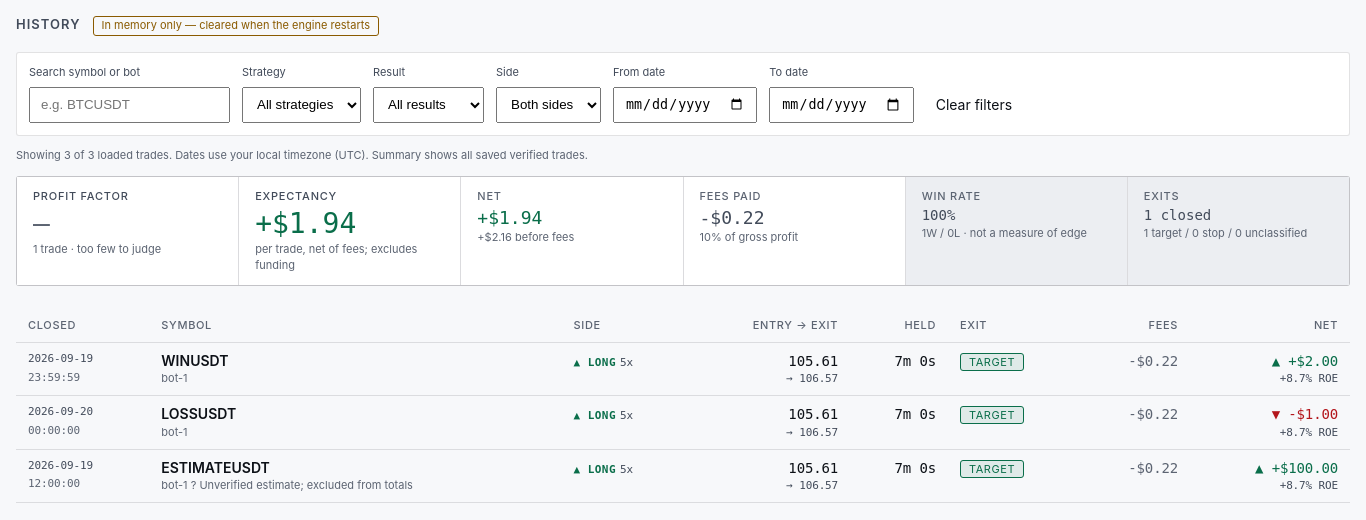
Test: combines local date and outcome filters, recalculates totals, and resets
Type "2026-09-19" into the date field labelled "From date" at (685, 105), box top-left (613, 87), bottom-right (757, 123)
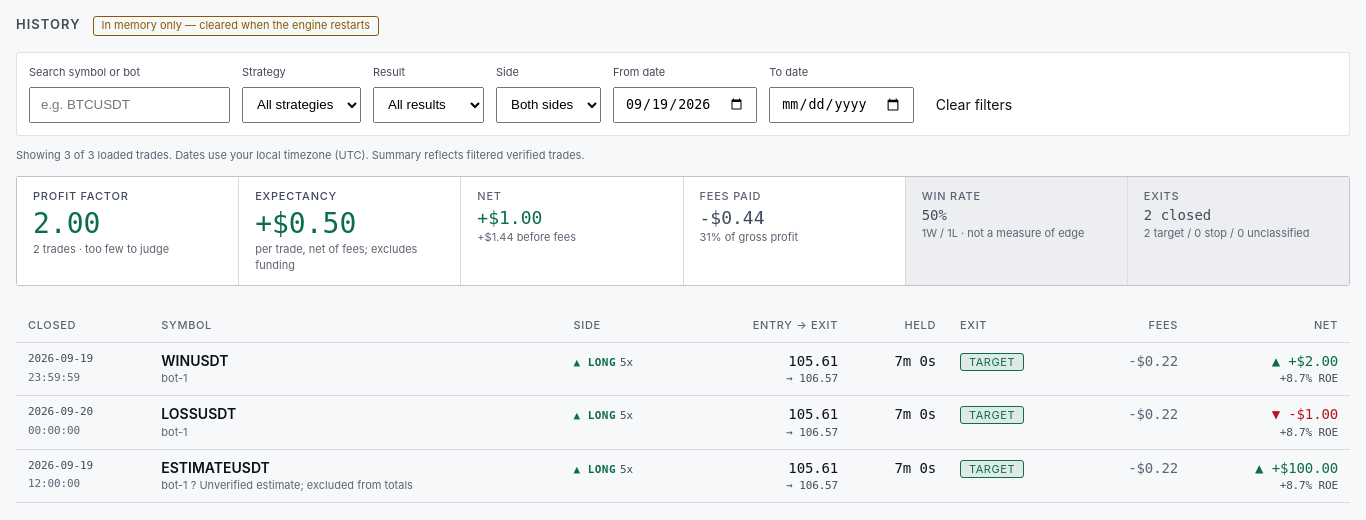
Type "2026-09-19" into the date field labelled "To date" at (841, 105), box top-left (769, 87), bottom-right (914, 123)
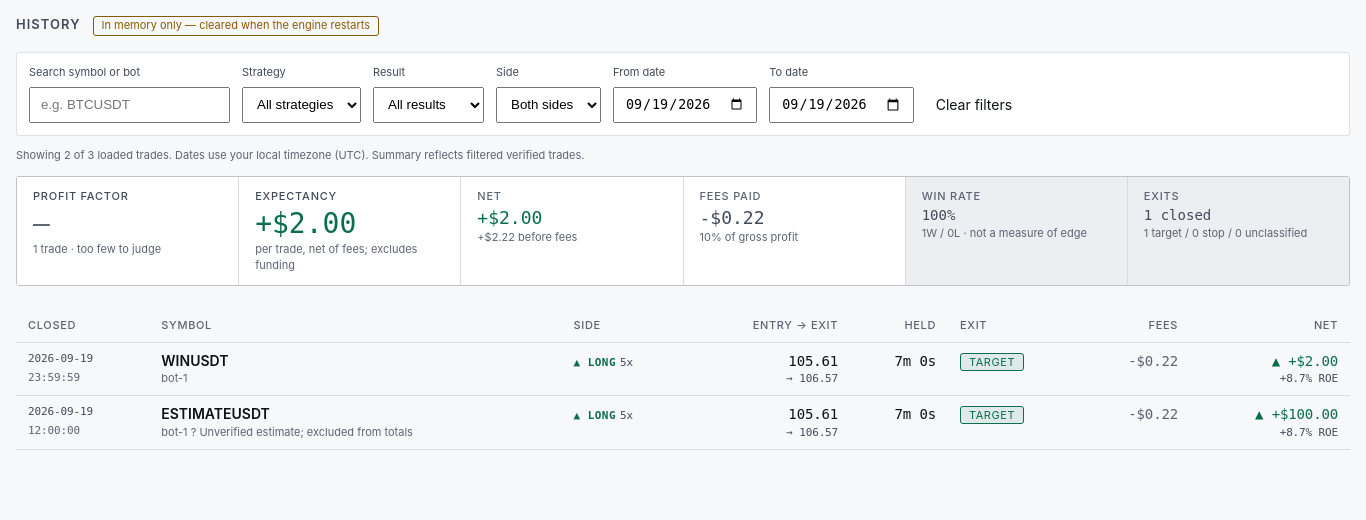
Select "Wins" in the dropdown labelled "Result" at (428, 105), box top-left (373, 87), bottom-right (484, 123)
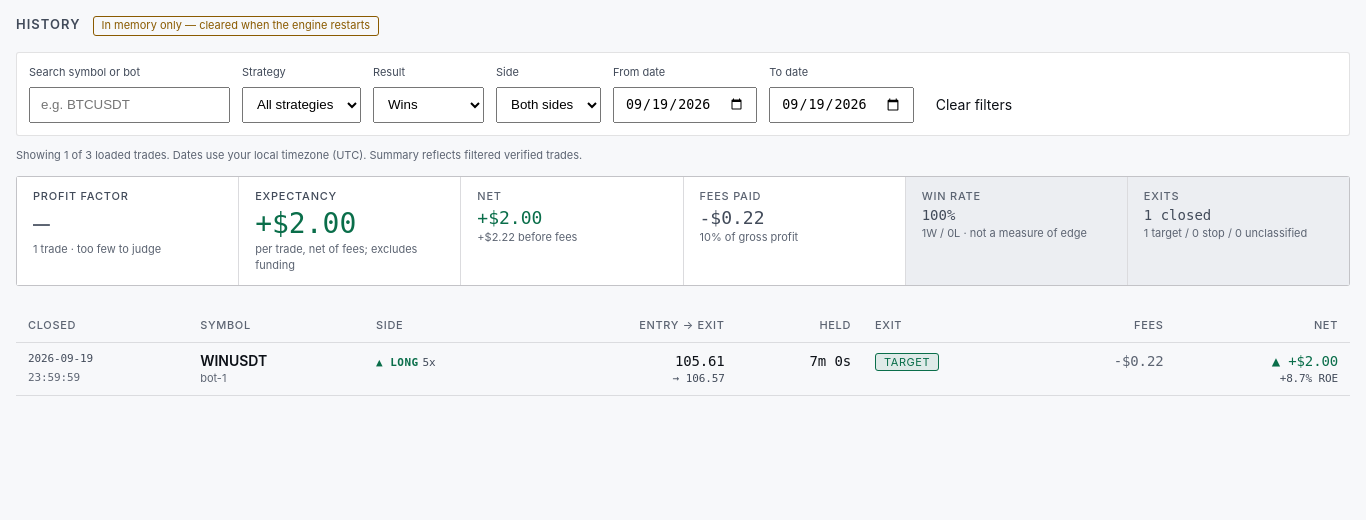
Result: the text "1 trade · too few to judge" is shown at top-left (33, 242), bottom-right (161, 256)
Result: the text "ESTIMATEUSDT" is gone
Result: the text "Showing 1 of 3" is shown at top-left (16, 148), bottom-right (582, 162)
Click the button "Clear filters" at (974, 105), box top-left (926, 87), bottom-right (1022, 123)
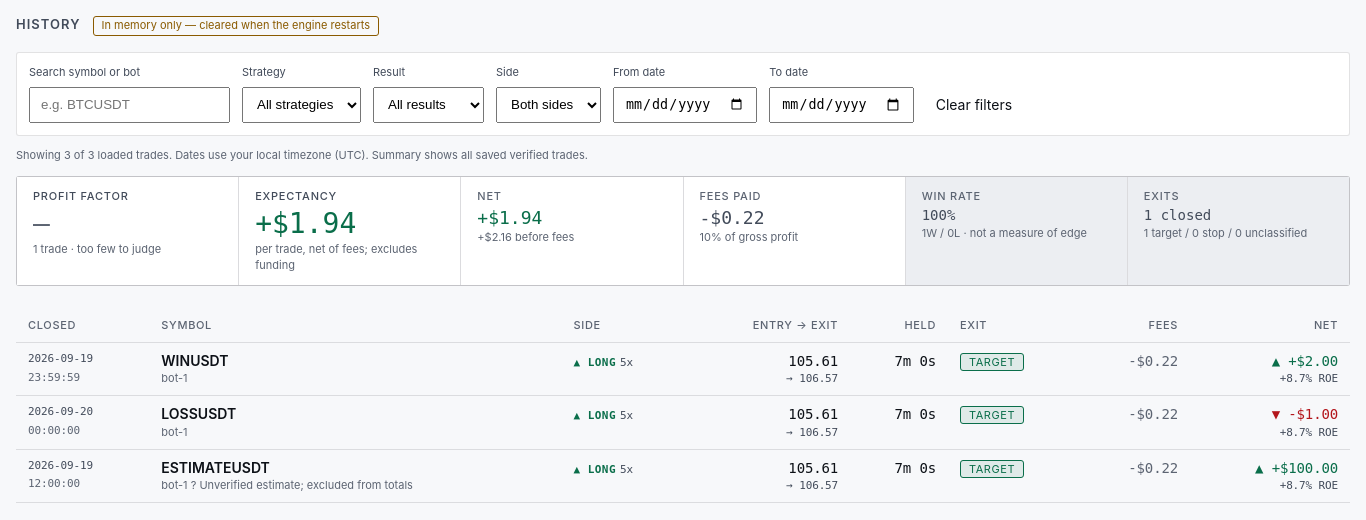
Result: the text "LOSSUSDT" is shown at top-left (161, 405), bottom-right (236, 422)
